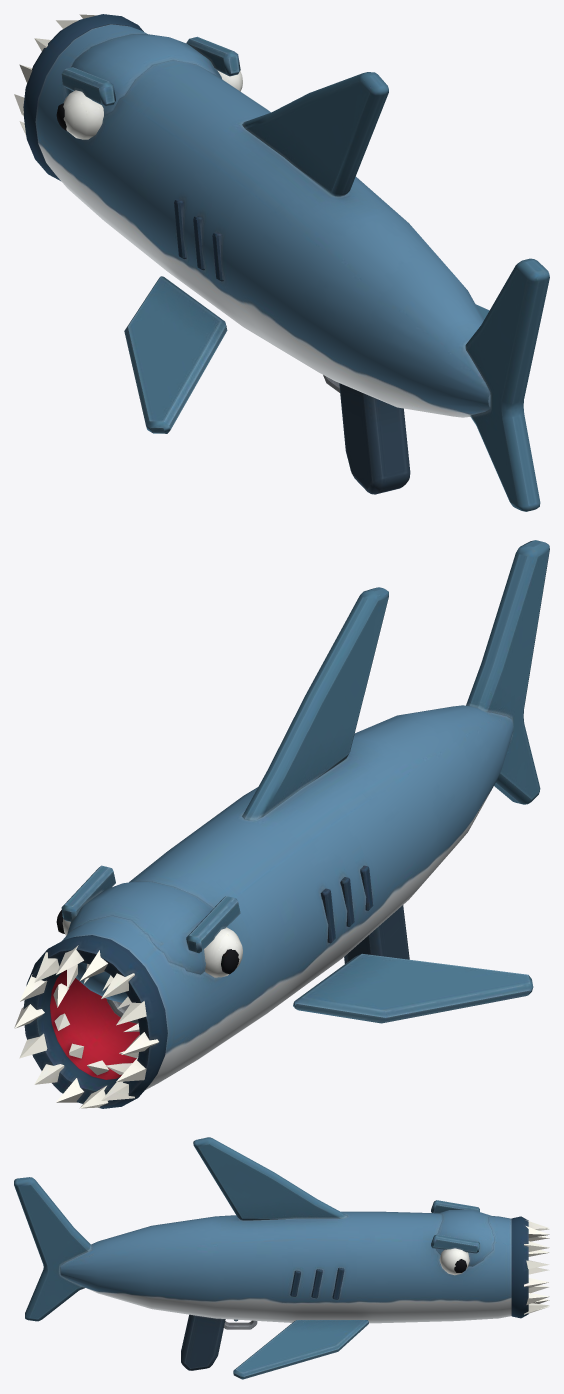
The model's file is sharkgun.glb.
3 renders of one model, top to bottom at view 1: azimuth 30°, elevation 25°; view 2: azimuth 150°, elevation 25°; view 3: azimuth 270°, elevation 25°, orthographic. The views are drawn at different scales.
Visible parts, largest first — view 1: sharkgun; view 2: sharkgun; view 3: sharkgun.
Boxes of the visible parts, x1,y1,x2,y2 form: sharkgun: [14, 14, 549, 511]; sharkgun: [14, 540, 549, 1108]; sharkgun: [14, 1137, 549, 1379].
Size of the model in its own units: 0.4688 by 0.4726 by 1.
Materials: 9 (9 with a texture image).
